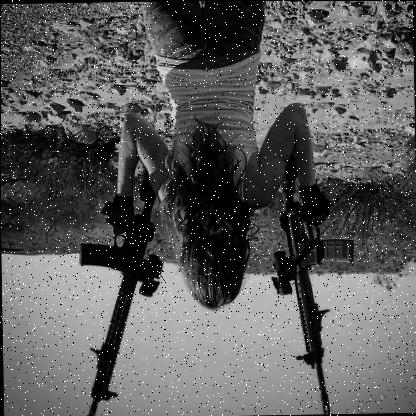rifle: (272, 156, 359, 414), (72, 176, 162, 416)
